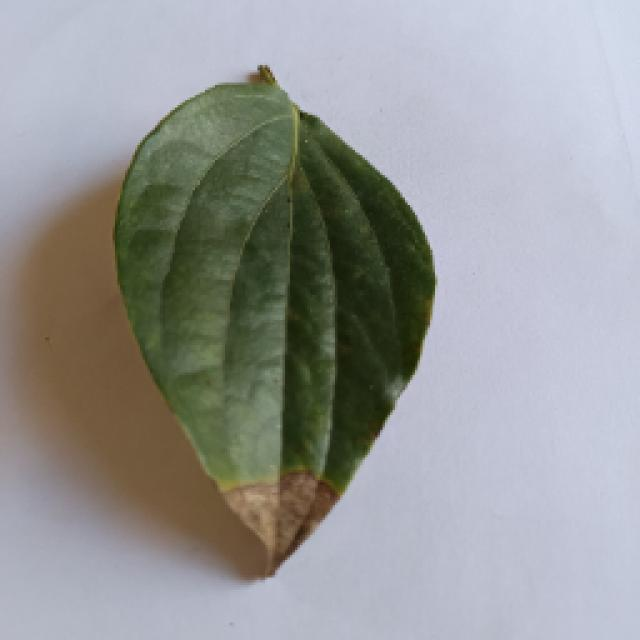footrot: (115, 68, 435, 570)
